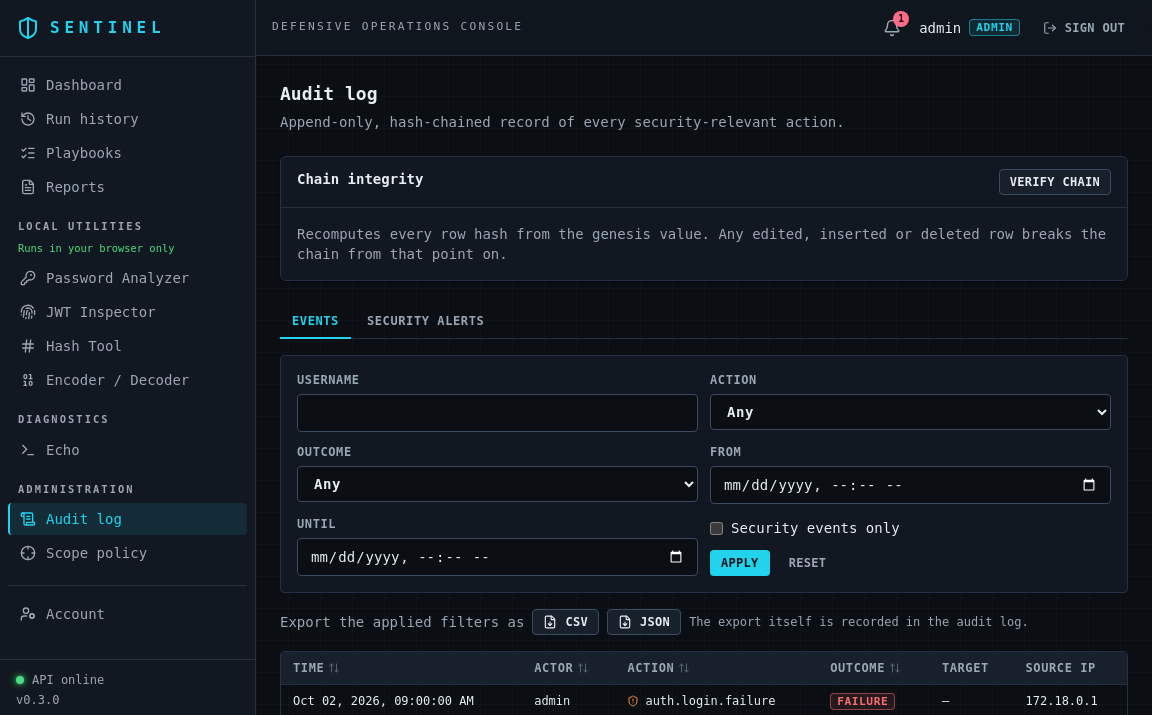
Test: admin audit viewer › verifies the chain and reports a break
Click the button "Verify chain" at {"x": 1055, "y": 182}, box [999,169,1111,195]
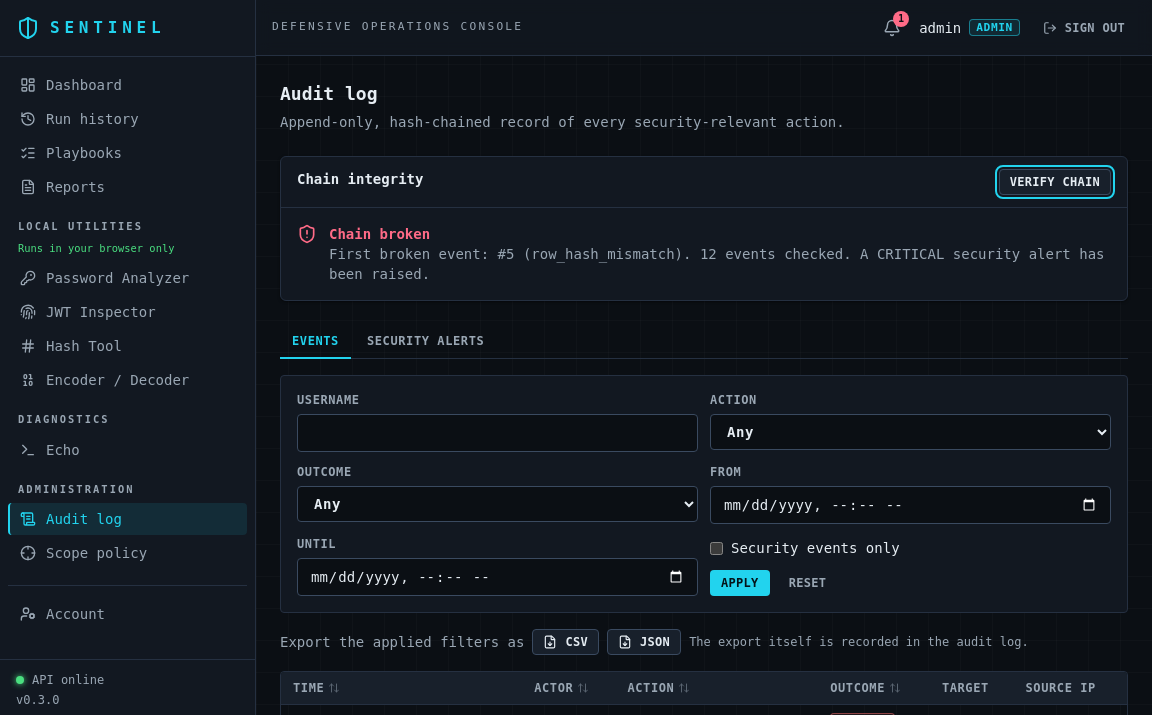
Expected: the text "Chain broken" shows "#5 (row_hash_mismatch)", [297,224,1111,284]
